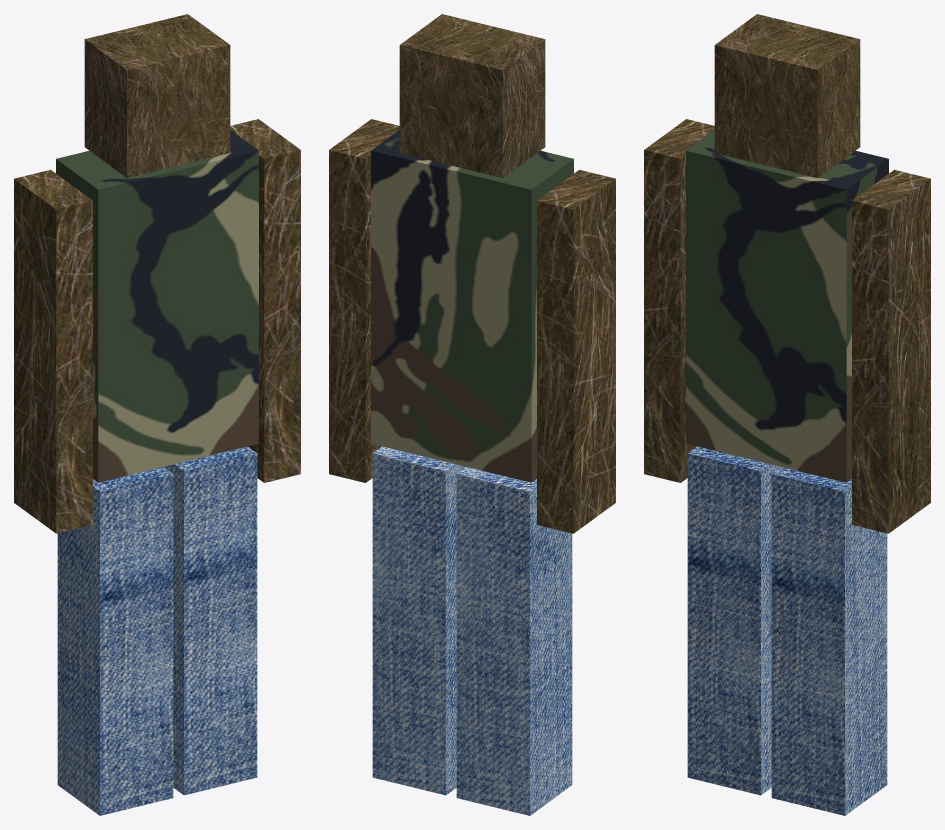
The model's file is CubeDude_UV_Unwrapping_v3.fbx.
3 views of the same model, side by side, from view 1: azimuth 30°, elevation 25°; view 2: azimuth 150°, elevation 25°; view 3: azimuth 330°, elevation 25° (orthographic).
Parts seen in each view (by area): view 1: CubeDude; view 2: CubeDude; view 3: CubeDude.
Boxes of the visible parts, x1,y1,x2,y2 form: CubeDude: (14, 14, 300, 815); CubeDude: (329, 14, 615, 815); CubeDude: (644, 14, 930, 815).
Size of what is drawn, in the model's own units: 66.65 by 192 by 20.
Materials: 3 (3 with a texture image).
